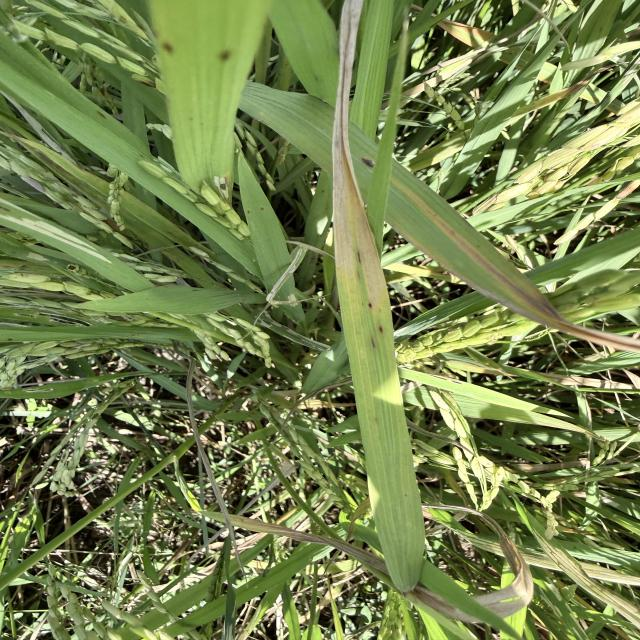Chay bia la: (332, 0, 389, 326)
